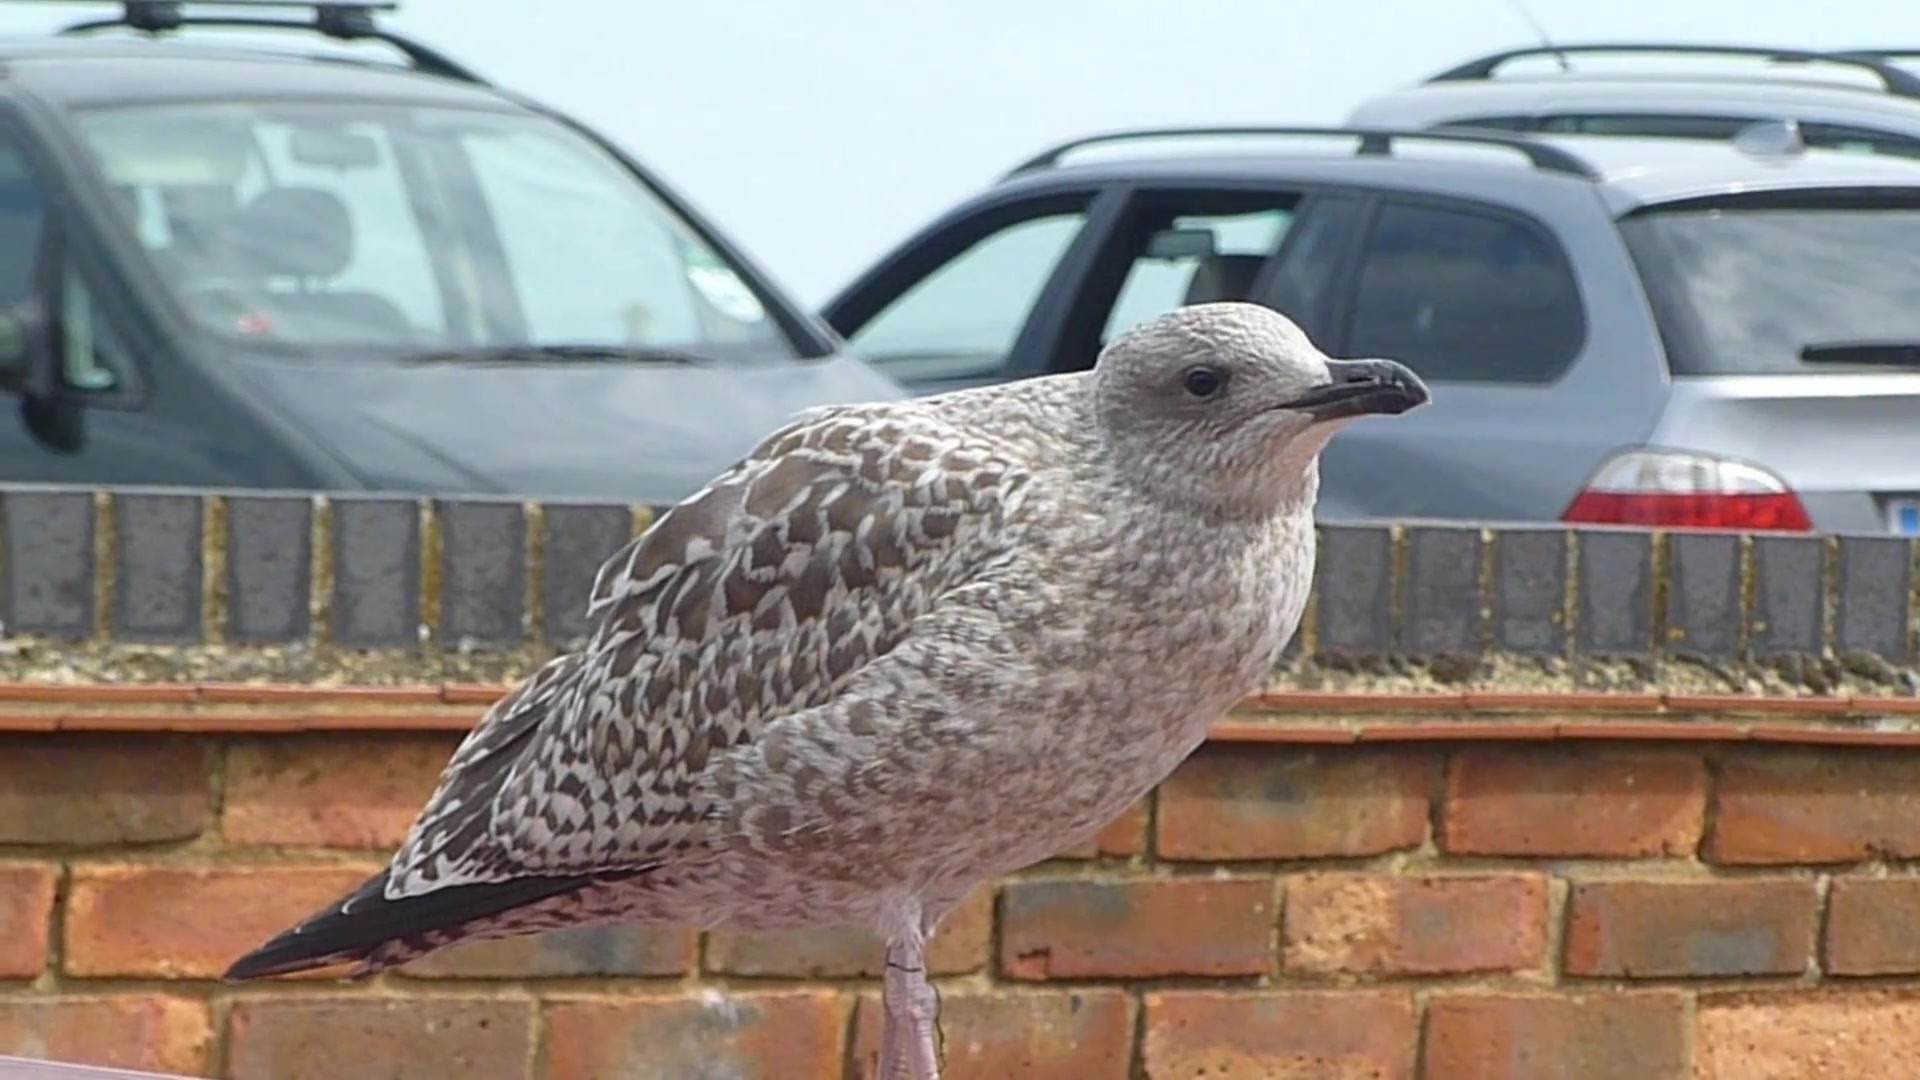bird: (218, 301, 1422, 1077)
